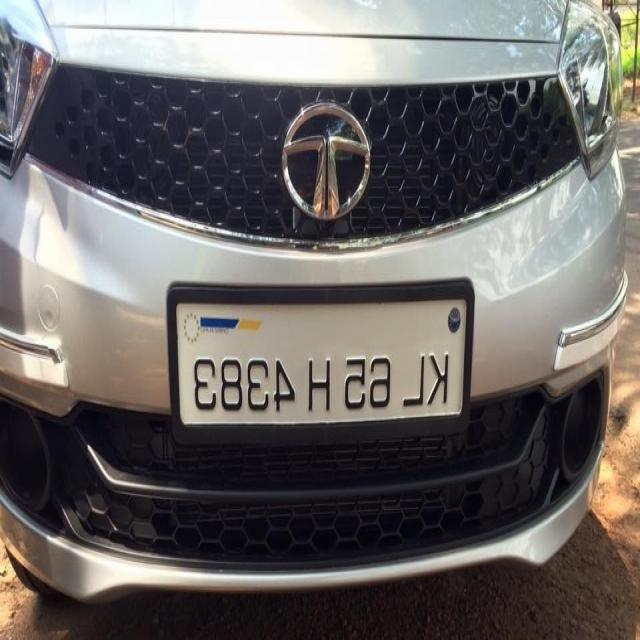license_plate: (163, 271, 476, 453)
